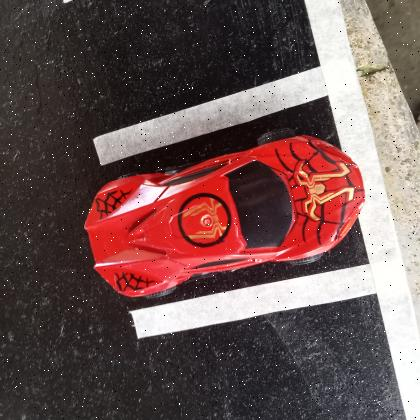Car: (83, 133, 366, 297)
